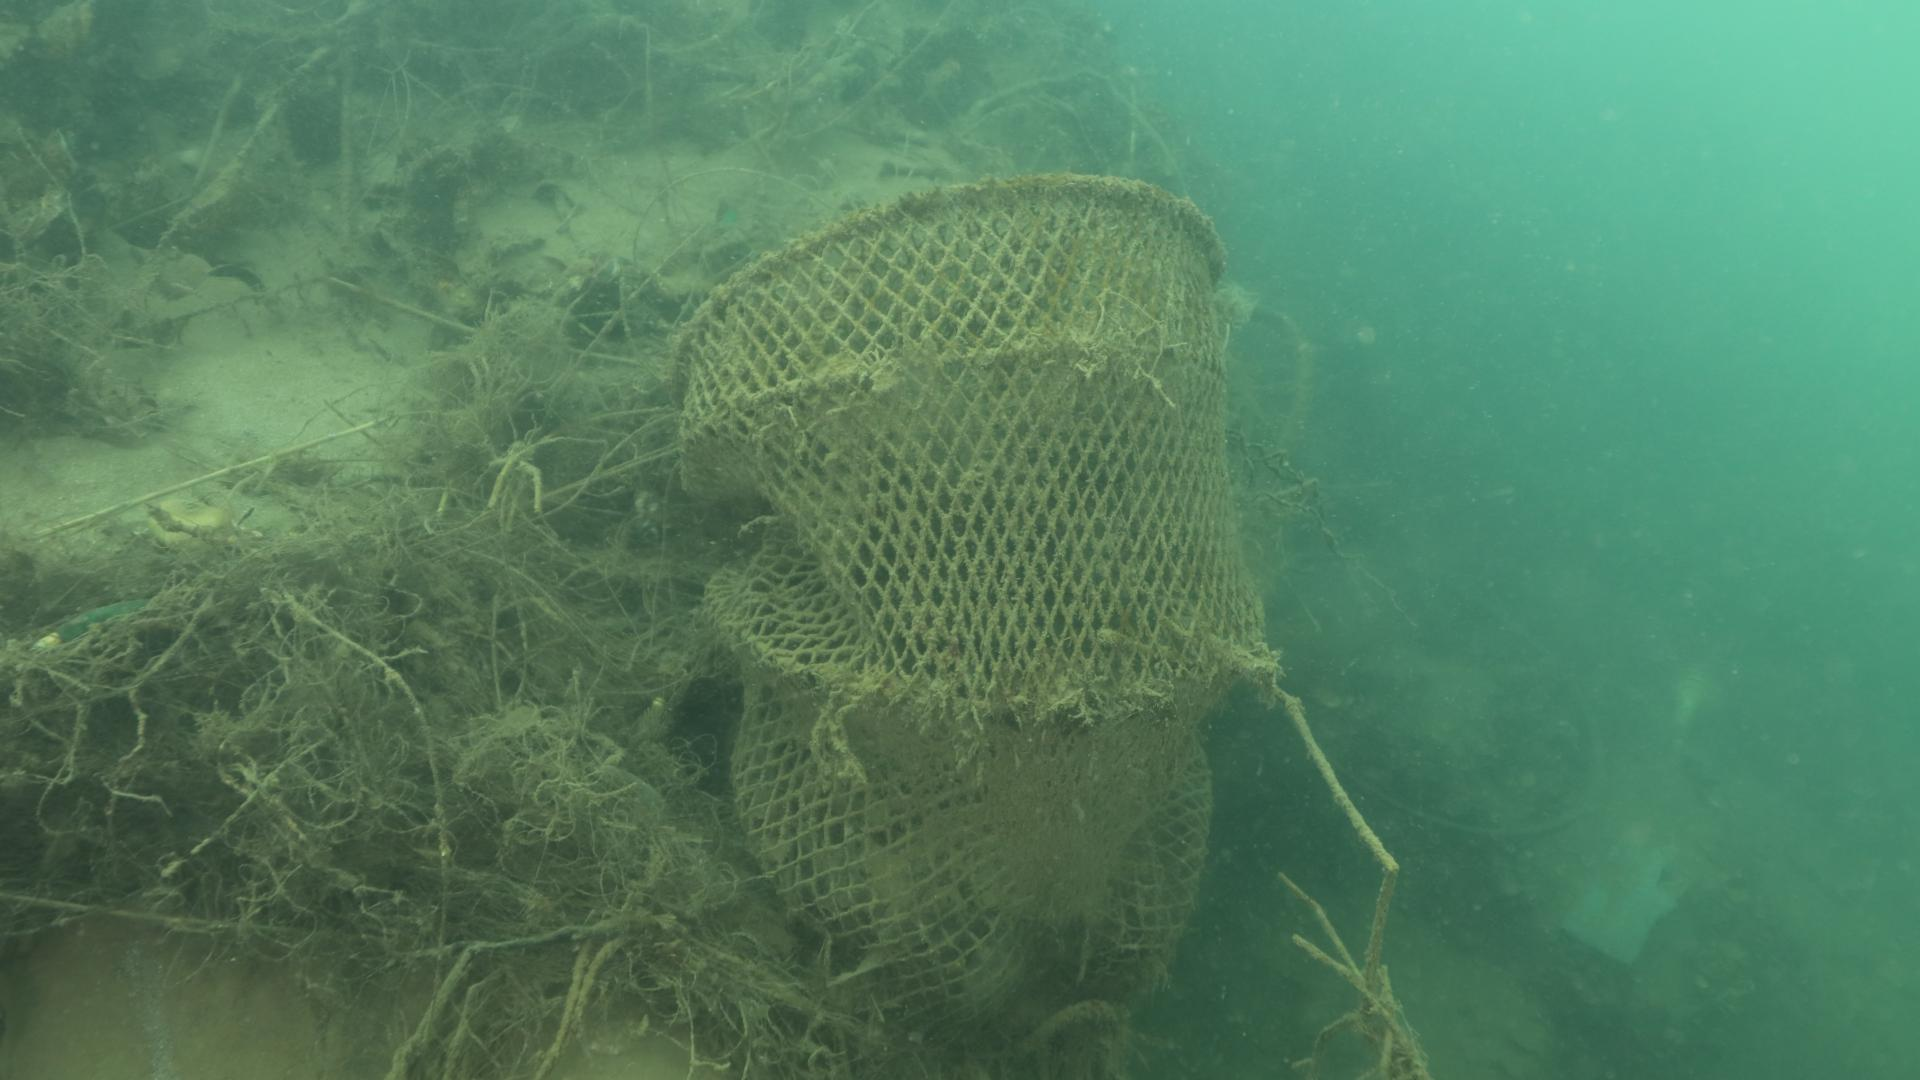spring fish trap: (671, 170, 1284, 1062)
